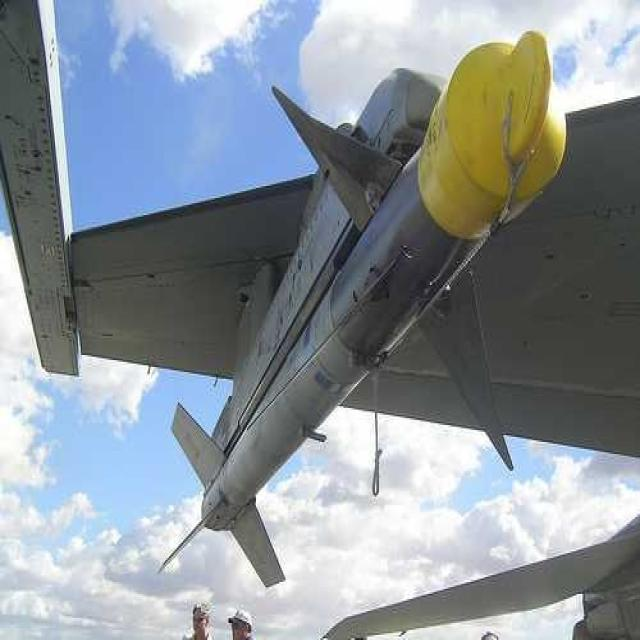missile: (148, 25, 566, 581)
